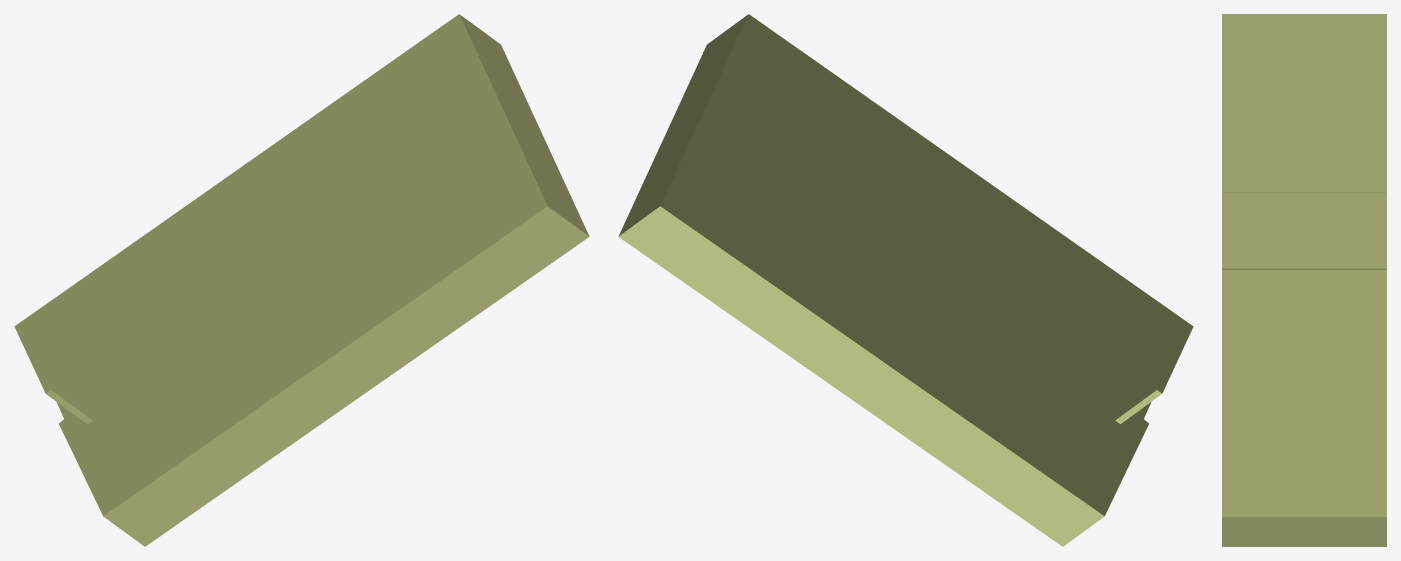
The picture shows the model from 3 angles, left to right: view 1: azimuth 30°, elevation 25°; view 2: azimuth 150°, elevation 25°; view 3: azimuth 270°, elevation 25°; orthographic projection. The views are drawn at different scales.
Parts seen in each view (by area): view 1: 0_1_1_3_3_2_1_1_2; view 2: 0_1_1_3_3_2_1_1_2; view 3: 0_1_1_3_3_2_1_1_2.
Boxes of the visible parts, x1=… form: 0_1_1_3_3_2_1_1_2: x1=14, y1=14, x2=589, y2=546; 0_1_1_3_3_2_1_1_2: x1=618, y1=14, x2=1193, y2=546; 0_1_1_3_3_2_1_1_2: x1=1222, y1=14, x2=1386, y2=546.
Size of the model in its own units: 44.19 by 32.89 by 6.
